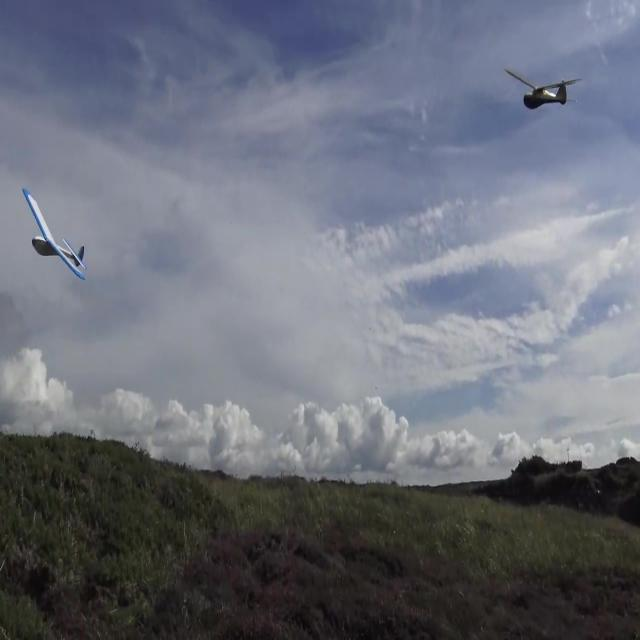iha: (536, 3, 550, 47), (54, 218, 55, 250)
